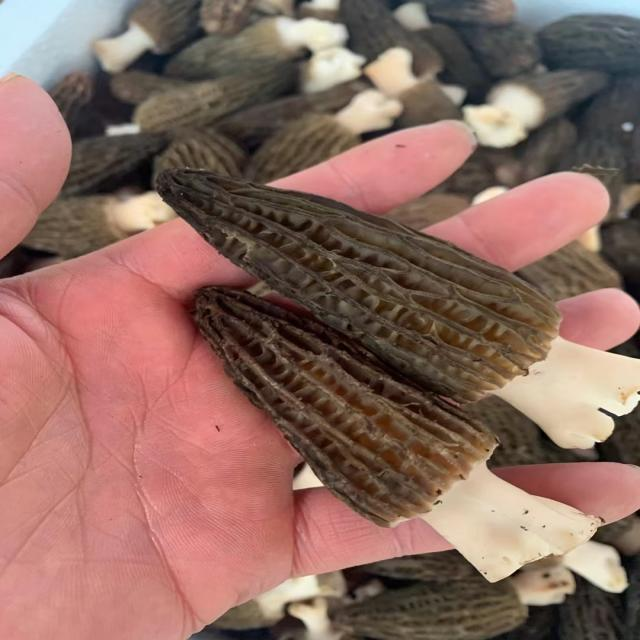Morchella esculenta: (158, 168, 640, 448), (188, 287, 603, 582)
